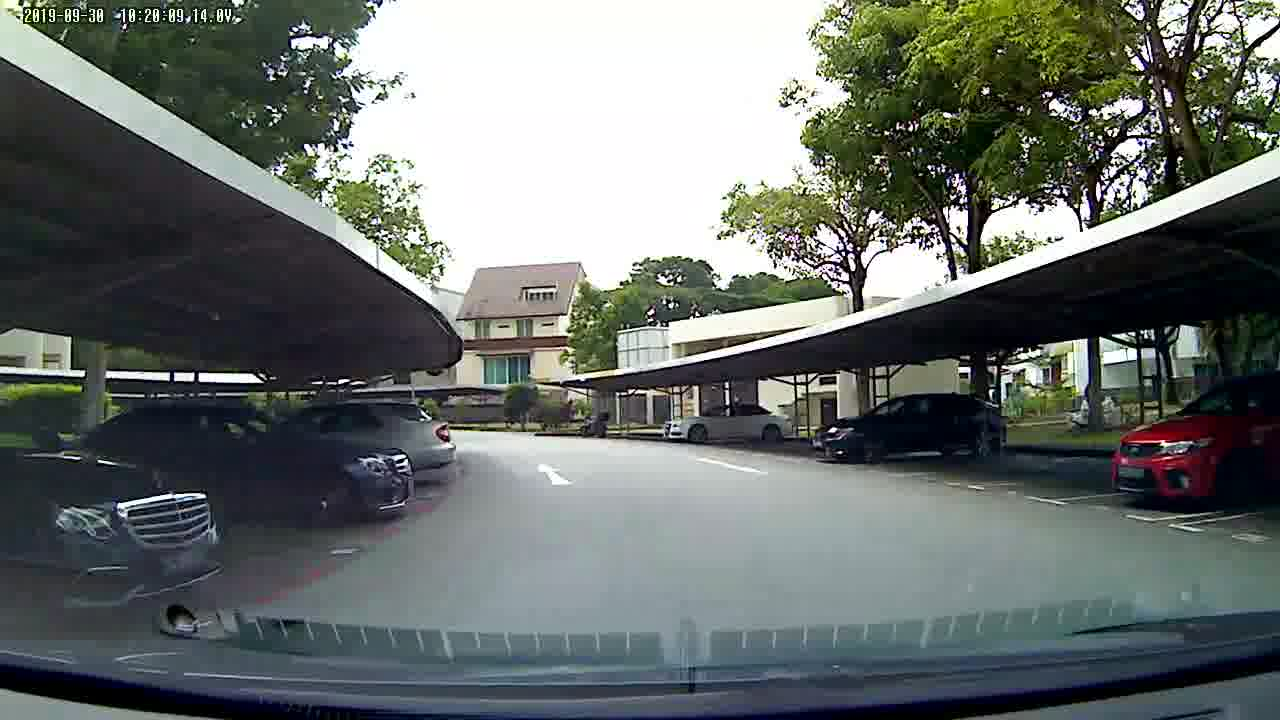car: (1, 441, 237, 601), (163, 392, 420, 530), (1105, 370, 1280, 532), (807, 394, 1018, 473), (656, 399, 795, 448)
